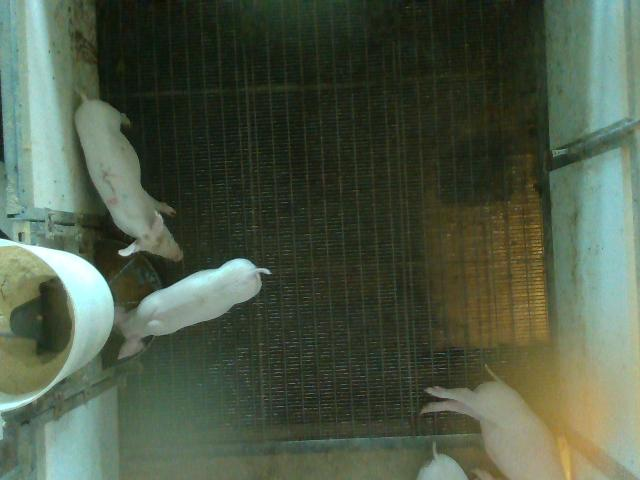pig-5: (75, 95, 182, 261)
